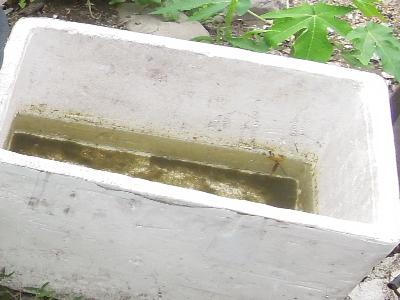styrofoam: (2, 15, 399, 298)
